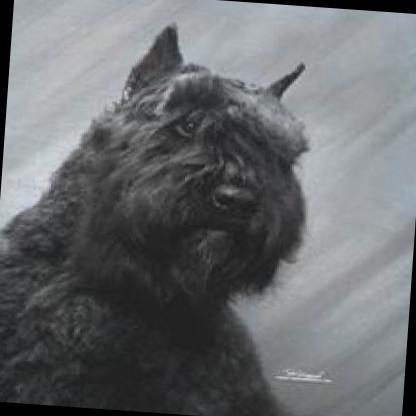Bouvier_des_Flandres: (0, 6, 314, 416)
